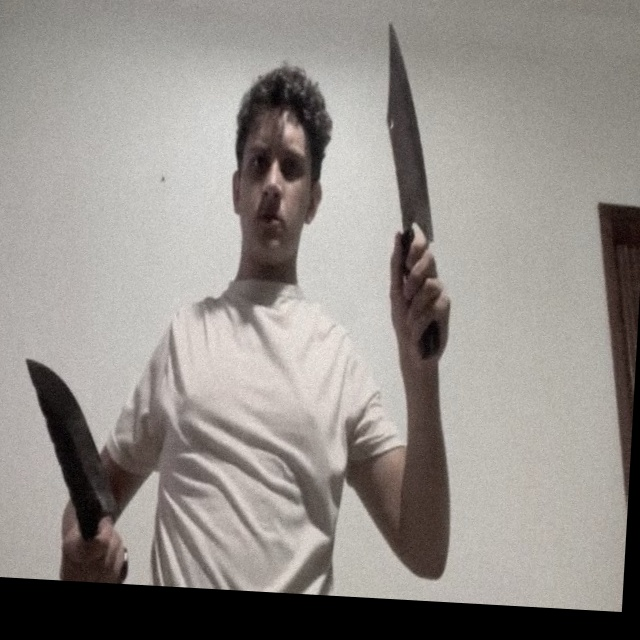Sharp-Object: (18, 358, 128, 513), (378, 23, 444, 238)
